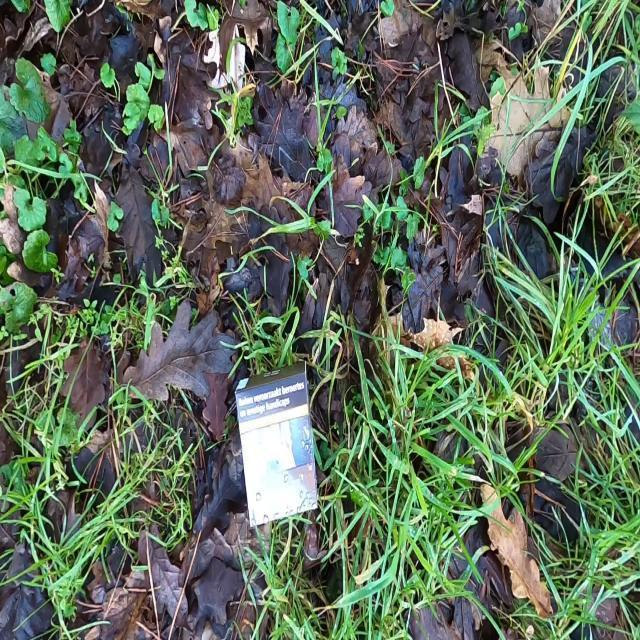Paper: (235, 358, 318, 528)
